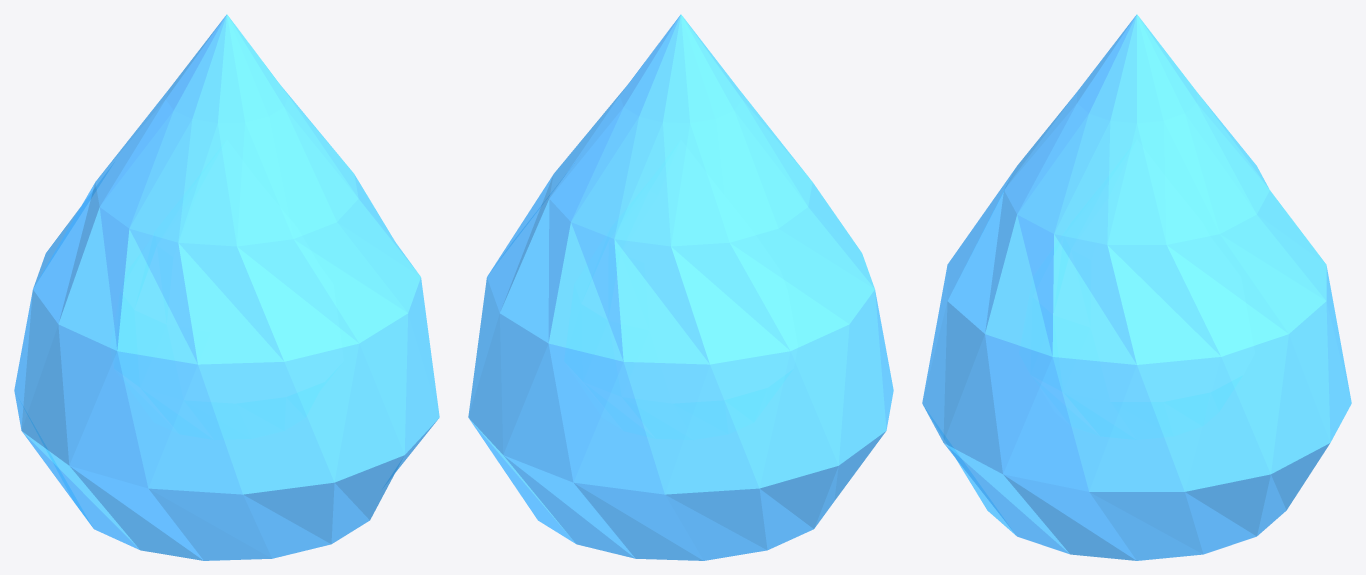
Rendered from gem_blue.glb.
3 views of the same model, side by side, from view 1: azimuth 30°, elevation 25°; view 2: azimuth 150°, elevation 25°; view 3: azimuth 270°, elevation 25° (orthographic).
Size of the model in its own units: 0.8189 by 1.12 by 0.84.
